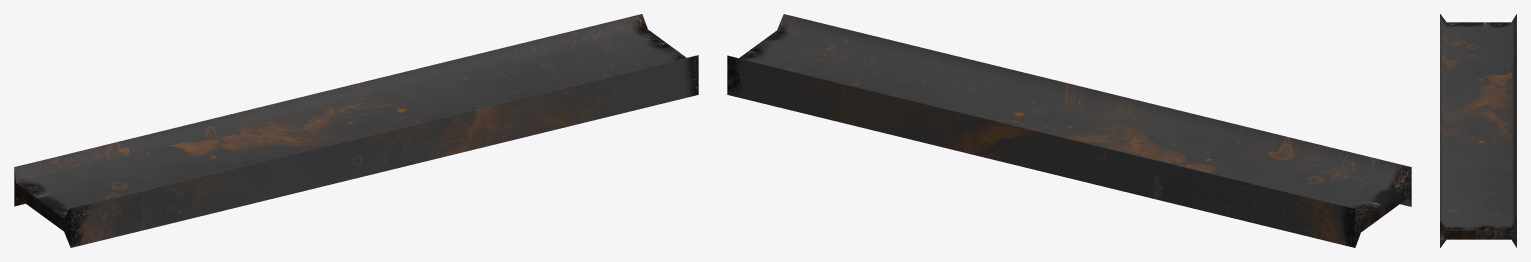
Rendered from rusted_metal_beam.glb.
3 renders of one model, left to right at view 1: azimuth 30°, elevation 25°; view 2: azimuth 150°, elevation 25°; view 3: azimuth 270°, elevation 25°, orthographic. The views are drawn at different scales.
Parts seen in each view (by area): view 1: pCube2; view 2: pCube2; view 3: pCube2.
Part boxes in pixels (left/top/right/bottom): pCube2: left=14, top=14, right=698, bottom=247; pCube2: left=727, top=14, right=1411, bottom=247; pCube2: left=1440, top=14, right=1516, bottom=247.
Size of the model in its own units: 38.21 by 2.3 by 5.95.
Materials: 1 (1 with a texture image).
